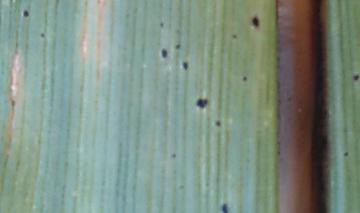tarspot: (195, 97, 208, 109), (251, 16, 260, 28), (160, 48, 168, 60), (221, 203, 230, 213), (182, 60, 189, 72), (22, 9, 30, 18), (213, 120, 222, 128), (352, 73, 360, 82), (241, 74, 248, 82), (174, 43, 181, 50), (169, 153, 177, 159), (39, 32, 46, 38), (158, 21, 164, 28), (232, 33, 238, 40), (343, 150, 349, 157)
